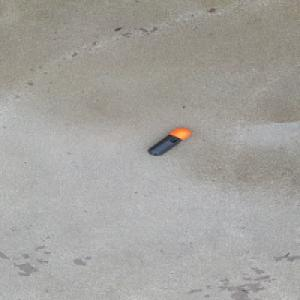PlasticPart: (146, 127, 191, 156)
